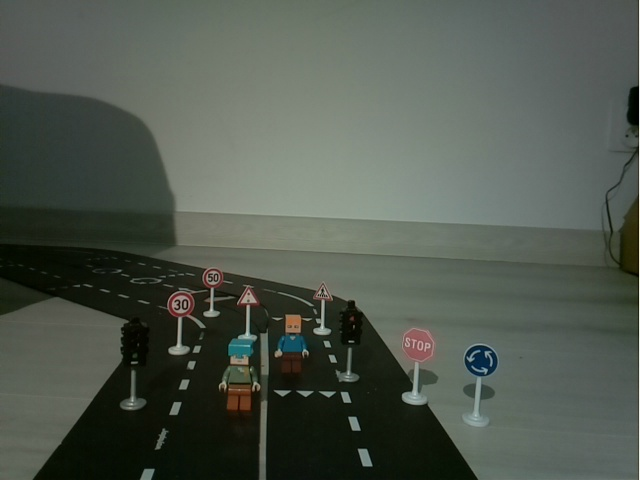green light: (118, 318, 151, 413)
limit 30: (164, 289, 198, 358)
limit 50: (201, 265, 227, 321)
pedestrian sign: (311, 280, 334, 338)
person: (274, 314, 310, 378)
red light: (336, 297, 366, 386)
round: (458, 339, 501, 429)
second person: (214, 339, 263, 417)
stop: (397, 323, 438, 411)
traffic light sign: (235, 284, 259, 338)
